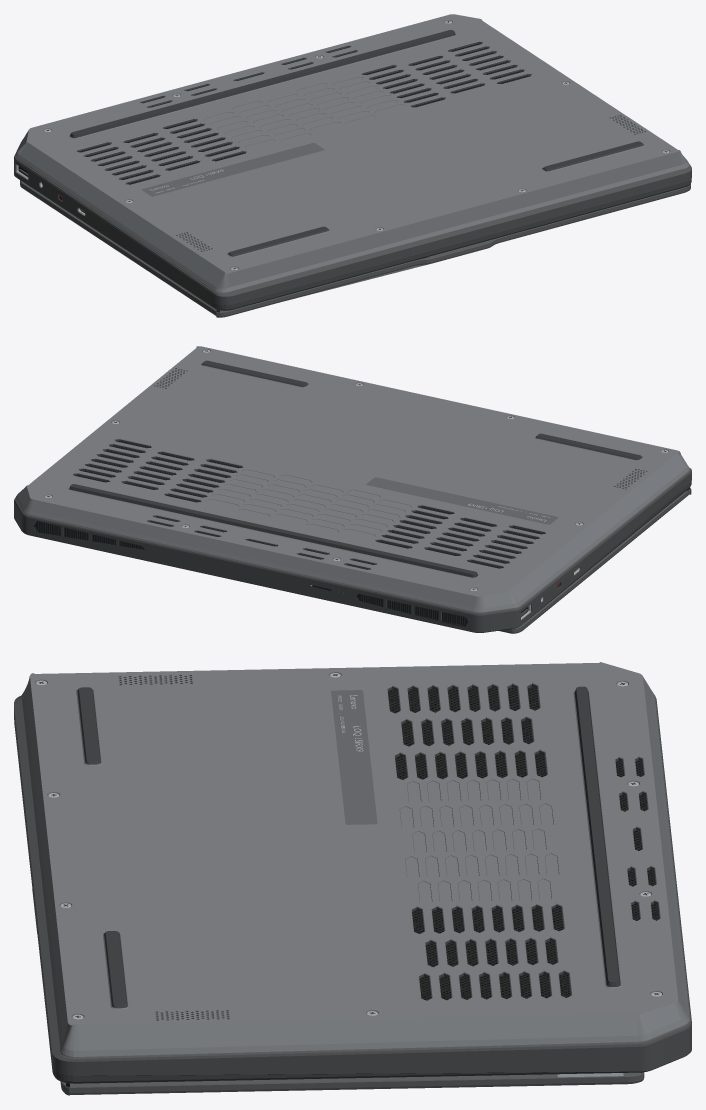
The model's file is LOQ15IRX9_low_poly_bottom_cover.fbx.
3 renders of one model, top to bottom at view 1: azimuth 30°, elevation 25°; view 2: azimuth 150°, elevation 25°; view 3: azimuth 270°, elevation 25°, orthographic. The views are drawn at different scales.
Parts seen in each view (by area): view 1: Bottom_Cover, LOQ15IRX9_Panel_Samping, LOQ15IRX9_Layar_Tertutup, LOQ15IRX9_Bodi_Keyboard; view 2: Bottom_Cover, LOQ15IRX9_Panel_Samping, LOQ15IRX9_Kisi_Belakang, LOQ15IRX9_Layar_Tertutup, LOQ15IRX9_Bodi_Keyboard; view 3: Bottom_Cover, LOQ15IRX9_Panel_Samping, LOQ15IRX9_Layar_Tertutup, LOQ15IRX9_Bodi_Keyboard.
Part boxes in pixels (x1,y1,x2,y2): Bottom_Cover: [15, 14, 689, 293]; LOQ15IRX9_Panel_Samping: [14, 142, 691, 305]; LOQ15IRX9_Layar_Tertutup: [20, 180, 690, 317]; LOQ15IRX9_Bodi_Keyboard: [17, 178, 691, 310]; Bottom_Cover: [15, 346, 689, 612]; LOQ15IRX9_Panel_Samping: [14, 468, 691, 632]; LOQ15IRX9_Kisi_Belakang: [34, 521, 467, 627]; LOQ15IRX9_Layar_Tertutup: [498, 488, 691, 633]; LOQ15IRX9_Bodi_Keyboard: [40, 481, 691, 632]; Bottom_Cover: [21, 662, 689, 1057]; LOQ15IRX9_Panel_Samping: [14, 695, 691, 1075]; LOQ15IRX9_Layar_Tertutup: [32, 889, 644, 1095]; LOQ15IRX9_Bodi_Keyboard: [14, 723, 685, 1083].
Bounding box in the file's own units: 0.3645 × 0.0308 × 0.275.
Materials: 36 (1 with a texture image).
